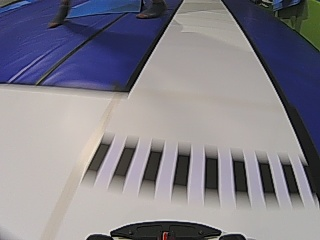CrossWalk: (84, 129, 317, 212)
